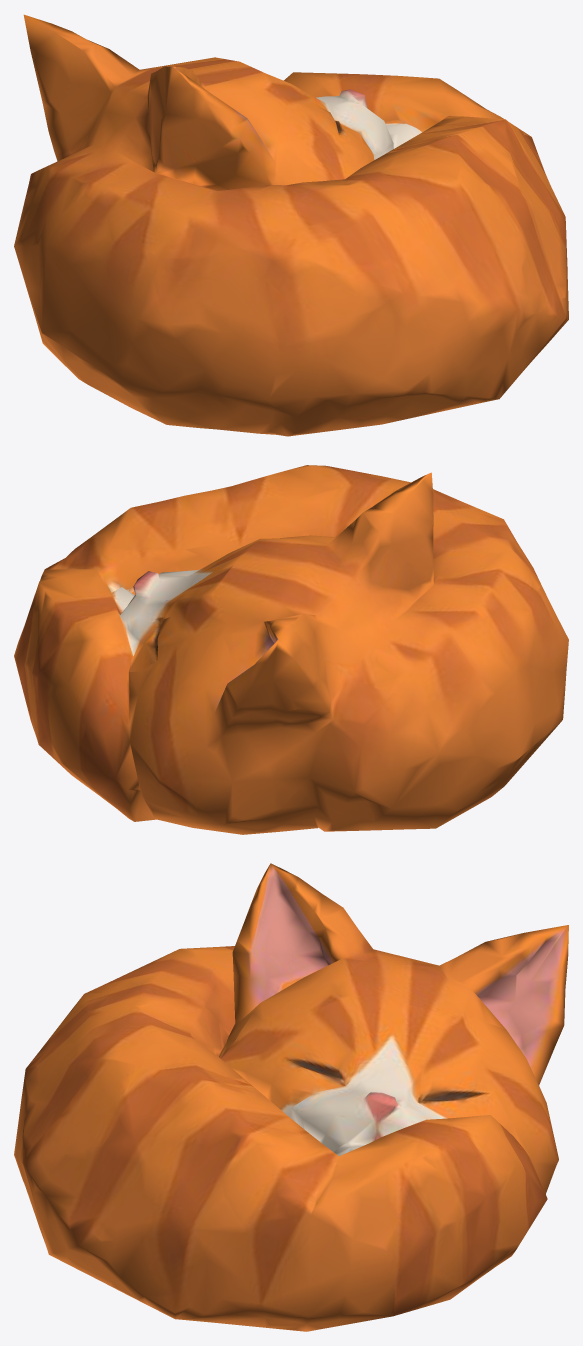
Rendered from ginger-sleep.glb.
The picture shows the model from 3 angles, top to bottom: view 1: azimuth 30°, elevation 25°; view 2: azimuth 150°, elevation 25°; view 3: azimuth 270°, elevation 25°; orthographic projection. The views are drawn at different scales.
Parts seen in each view (by area): view 1: tripo_node_08afd55c-f2ad-45d5-81fc-2229d40faa6a; view 2: tripo_node_08afd55c-f2ad-45d5-81fc-2229d40faa6a; view 3: tripo_node_08afd55c-f2ad-45d5-81fc-2229d40faa6a.
Part boxes in pixels (bbox=[...]): tripo_node_08afd55c-f2ad-45d5-81fc-2229d40faa6a: bbox=[14, 14, 568, 436]; tripo_node_08afd55c-f2ad-45d5-81fc-2229d40faa6a: bbox=[14, 465, 568, 834]; tripo_node_08afd55c-f2ad-45d5-81fc-2229d40faa6a: bbox=[14, 863, 568, 1331].
Size of the model in its own units: 0.9977 by 0.6156 by 1.
1 material, 1 textured.
